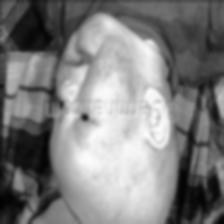Non-Cancerous Skin Condition: (79, 24, 139, 160)
